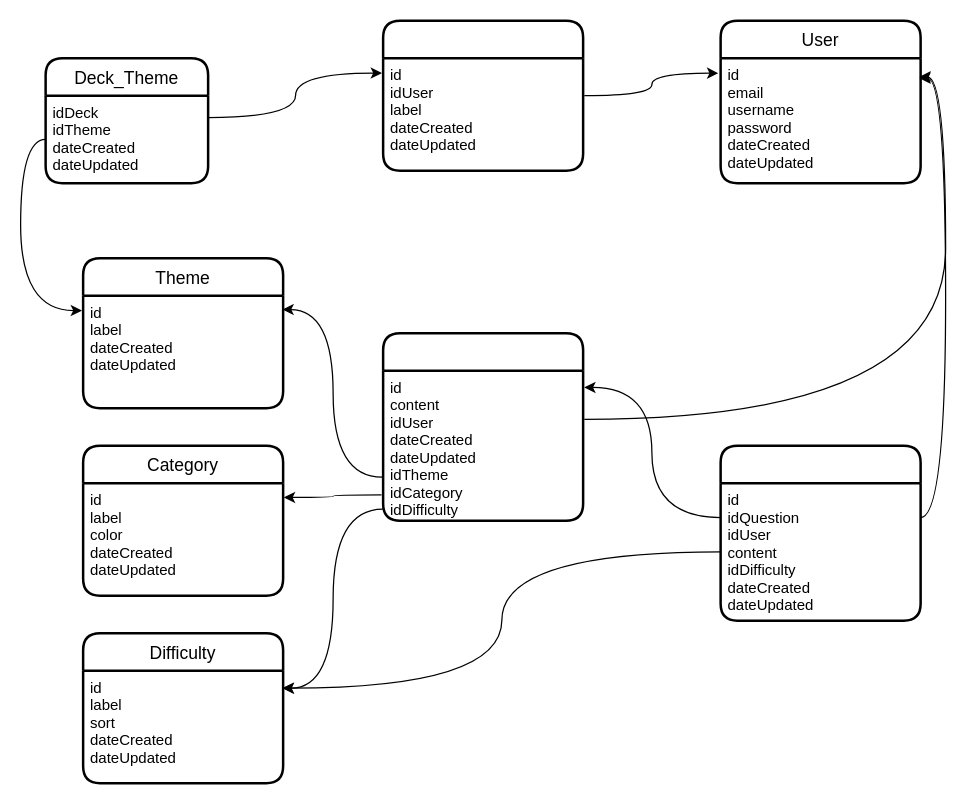
This 966x804 diagram has some shape labels left out. Each missing label, with the box of its shape:
Deck: (381, 19, 584, 171)
Modification: (719, 444, 921, 621)
Question: (381, 331, 584, 521)
